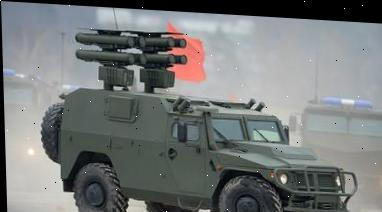armored_car: (34, 8, 365, 212)
truck: (296, 86, 382, 212), (2, 65, 58, 198)
